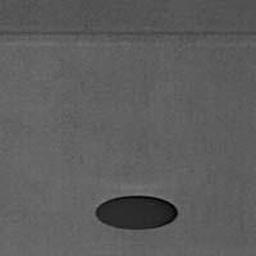Punching: (95, 195, 178, 230)
